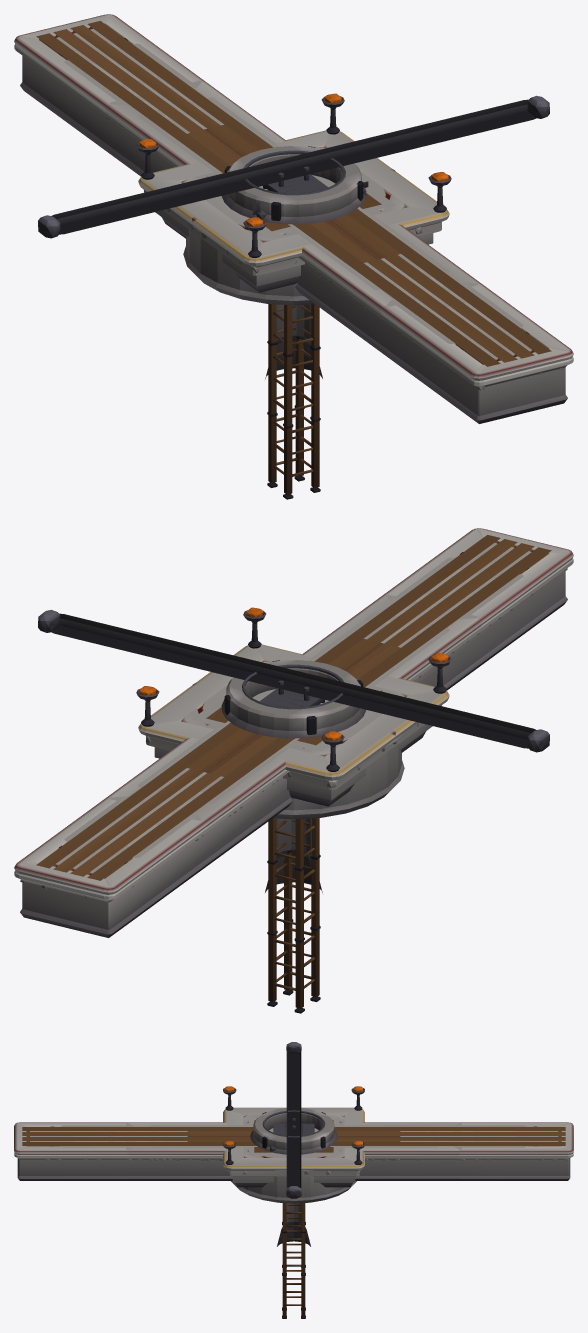
File: fortress-3-DScoWbMb.glb
3 renders of one model, top to bottom at view 1: azimuth 30°, elevation 25°; view 2: azimuth 150°, elevation 25°; view 3: azimuth 270°, elevation 25°, orthographic. The views are drawn at different scales.
Parts seen in each view (by area): view 1: block_6x2x47.400000000000006#1, block_4x2x46_plank#1, pad_12x2x12#1, mount_14.4#0, truss_16#0, block_6x2x29#1, geyserVent_5#0, disc_12x1.5#1, beam_2.5x1.5x18_plank#1, block_5x2x40#0, block_5x2x25#1, support_0_round#0 (+2 smaller); view 2: block_6x2x47.400000000000006#1, block_4x2x46_plank#1, pad_12x2x12#1, mount_14.4#0, truss_16#0, block_6x2x29#1, geyserVent_5#0, disc_12x1.5#1, beam_2.5x1.5x18_plank#1, block_5x2x40#0, block_5x2x25#1, support_0_round#0 (+2 smaller); view 3: block_6x2x47.400000000000006#1, block_4x2x46_plank#1, pad_12x2x12#1, block_6x2x29#1, mount_14.4#0, geyserVent_5#0, disc_12x1.5#1, truss_16#0, block_5x2x25#1, block_5x2x40#0, beam_2.5x1.5x18_plank#1, support_0_round#0.
Part boxes in pixels (left/top/right/bottom): block_6x2x47.400000000000006#1: left=14, top=14, right=573, bottom=423; block_4x2x46_plank#1: left=36, top=21, right=551, bottom=366; pad_12x2x12#1: left=136, top=93, right=451, bottom=292; mount_14.4#0: left=38, top=95, right=549, bottom=238; truss_16#0: left=267, top=190, right=320, bottom=499; block_6x2x29#1: left=105, top=81, right=480, bottom=357; geyserVent_5#0: left=221, top=146, right=366, bottom=224; disc_12x1.5#1: left=181, top=147, right=406, bottom=305; beam_2.5x1.5x18_plank#1: left=187, top=124, right=400, bottom=262; block_5x2x40#0: left=64, top=43, right=523, bottom=344; block_5x2x25#1: left=138, top=97, right=449, bottom=290; support_0_round#0: left=265, top=304, right=322, bottom=379; block_6x2x47.400000000000006#1: left=14, top=528, right=573, bottom=937; block_4x2x46_plank#1: left=36, top=535, right=551, bottom=880; pad_12x2x12#1: left=136, top=607, right=451, bottom=806; mount_14.4#0: left=38, top=609, right=549, bottom=752; truss_16#0: left=267, top=704, right=320, bottom=1013; block_6x2x29#1: left=107, top=595, right=482, bottom=871; geyserVent_5#0: left=221, top=660, right=366, bottom=738; disc_12x1.5#1: left=181, top=661, right=406, bottom=819; beam_2.5x1.5x18_plank#1: left=187, top=638, right=400, bottom=776; block_5x2x40#0: left=64, top=557, right=523, bottom=858; block_5x2x25#1: left=138, top=611, right=449, bottom=804; support_0_round#0: left=265, top=818, right=322, bottom=893; block_6x2x47.400000000000006#1: left=14, top=1122, right=573, bottom=1180; block_4x2x46_plank#1: left=22, top=1126, right=565, bottom=1146; pad_12x2x12#1: left=223, top=1086, right=364, bottom=1187; block_6x2x29#1: left=126, top=1122, right=461, bottom=1180; mount_14.4#0: left=286, top=1042, right=301, bottom=1198; geyserVent_5#0: left=250, top=1108, right=337, bottom=1154; disc_12x1.5#1: left=231, top=1115, right=356, bottom=1203; truss_16#0: left=282, top=1203, right=305, bottom=1318; block_5x2x25#1: left=149, top=1125, right=438, bottom=1147; block_5x2x40#0: left=60, top=1125, right=527, bottom=1147; beam_2.5x1.5x18_plank#1: left=187, top=1131, right=400, bottom=1141; support_0_round#0: left=277, top=1203, right=310, bottom=1246.
Size of the model in its own units: 29.7 by 18.63 by 47.4.
